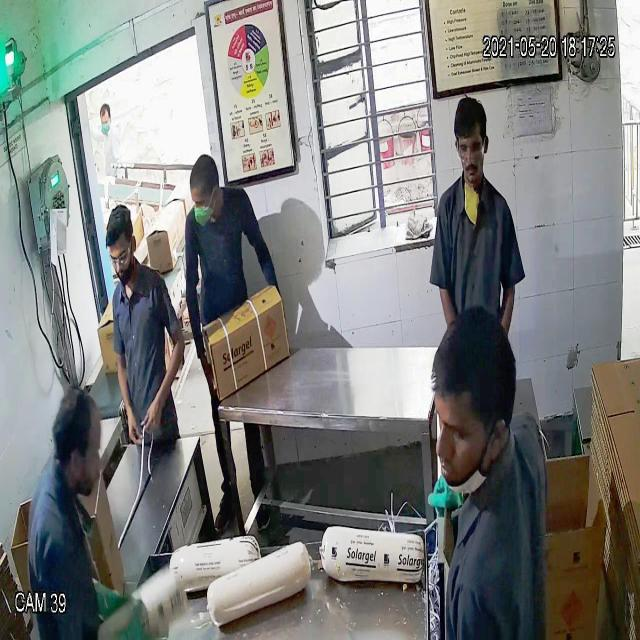glasses: (455, 137, 489, 163), (103, 246, 135, 268)
no-glass: (425, 399, 502, 449), (188, 188, 220, 212)
